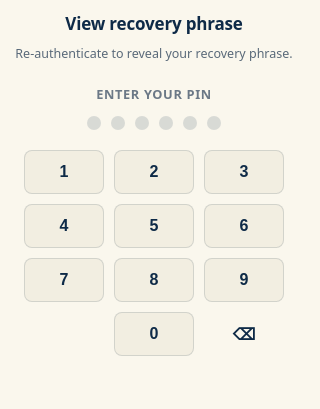
Backup › shows an error on a wrong PIN and does not reveal
Click the button "0": click(154, 334) top-left (114, 312), bottom-right (194, 356)
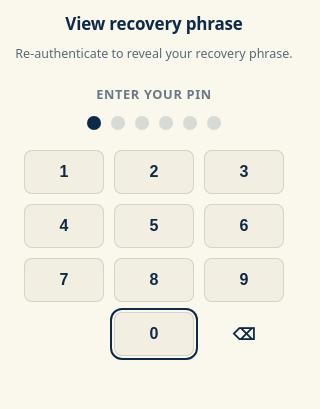
Click the button "0": click(154, 334) top-left (114, 312), bottom-right (194, 356)
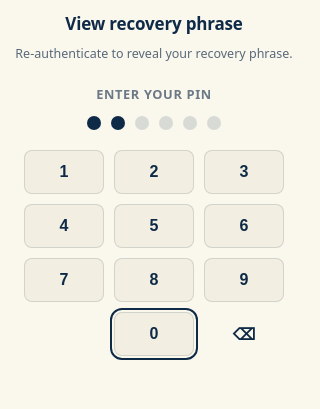
Click the button "0": click(154, 334) top-left (114, 312), bottom-right (194, 356)
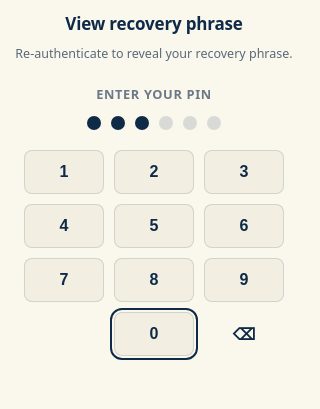
Click the button "0": click(154, 334) top-left (114, 312), bottom-right (194, 356)
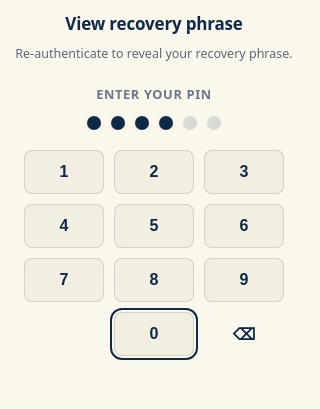
Click the button "0": click(154, 334) top-left (114, 312), bottom-right (194, 356)
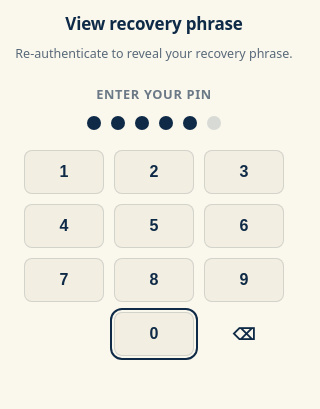
Click the button "0": click(154, 334) top-left (114, 312), bottom-right (194, 356)
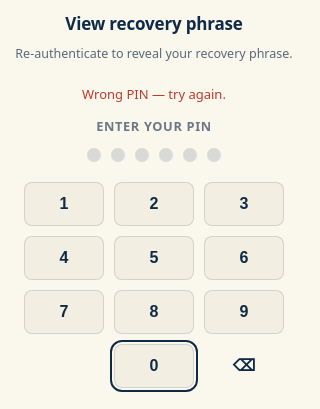
Expected: the text "Wrong PIN — try again." is shown, top-left (82, 85), bottom-right (226, 103)
